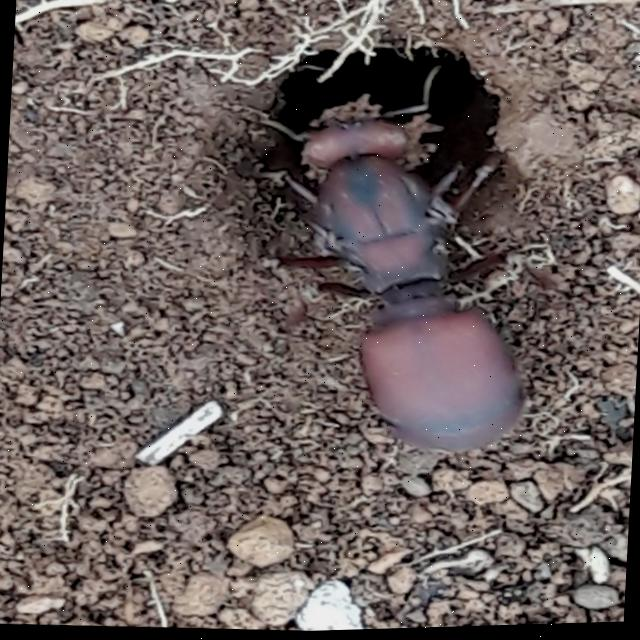Alive-Female-Dealate: (243, 55, 544, 464)
